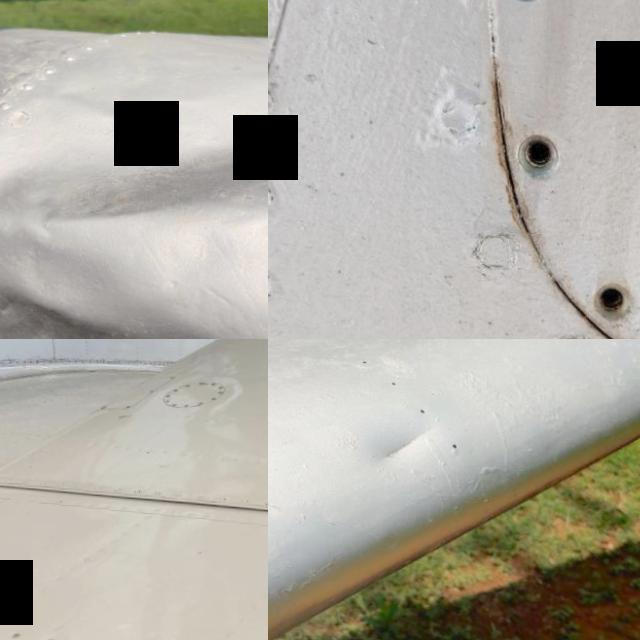Crack: (44, 356, 70, 362)
Dent: (0, 9, 268, 300), (350, 377, 462, 481)
Missing_Fastener: (494, 114, 579, 199), (576, 256, 640, 336)
